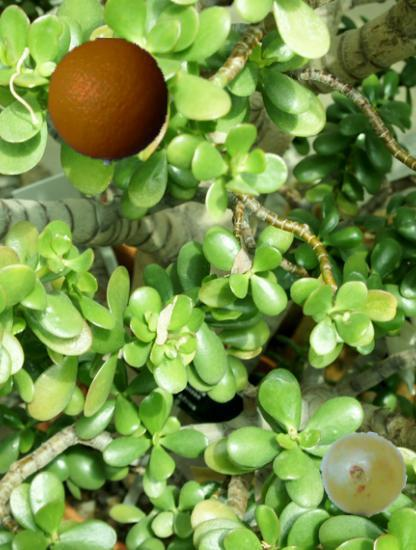Grape: (320, 431, 407, 518)
Orange: (45, 38, 173, 166)
